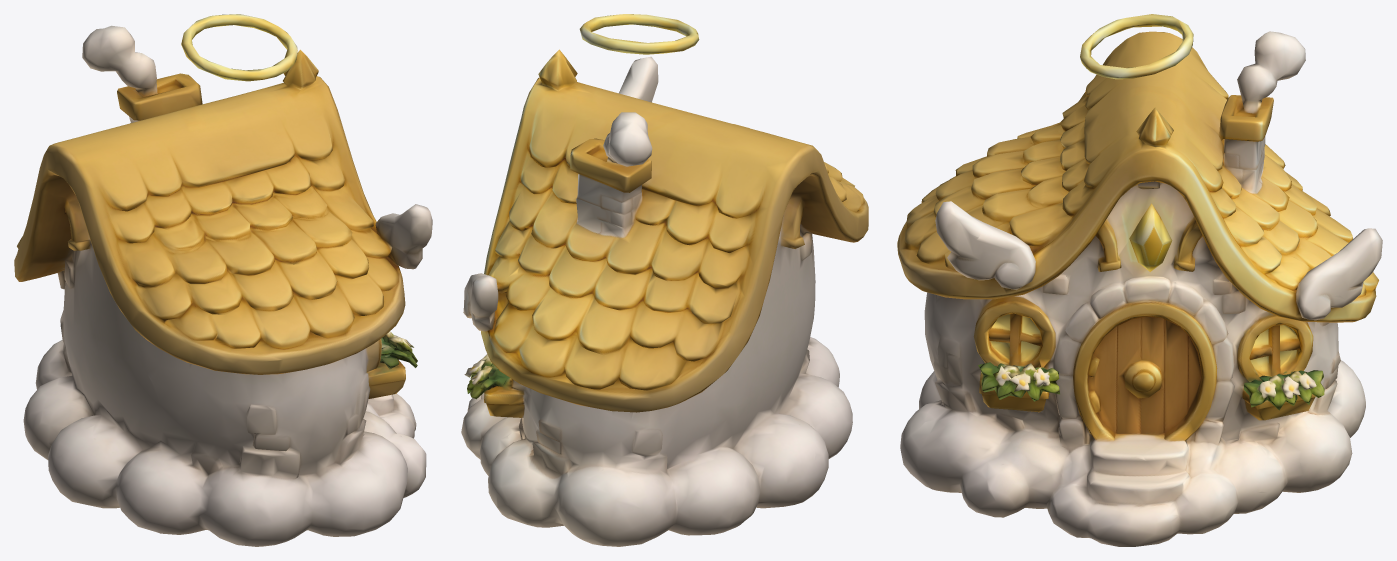
Rendered from Town_Halo_HouseA_raw.glb.
3 renders of one model, left to right at view 1: azimuth 30°, elevation 25°; view 2: azimuth 150°, elevation 25°; view 3: azimuth 270°, elevation 25°, orthographic. The views are drawn at different scales.
Parts seen in each view (by area): view 1: tripo_node_1d08ed83-241a-41ac-be14-08909b30315a; view 2: tripo_node_1d08ed83-241a-41ac-be14-08909b30315a; view 3: tripo_node_1d08ed83-241a-41ac-be14-08909b30315a.
Boxes of the visible parts, x1,y1,x2,y2 form: tripo_node_1d08ed83-241a-41ac-be14-08909b30315a: (14, 14, 432, 546); tripo_node_1d08ed83-241a-41ac-be14-08909b30315a: (461, 14, 868, 546); tripo_node_1d08ed83-241a-41ac-be14-08909b30315a: (897, 14, 1382, 546).
Size of the model in its own units: 0.8313 by 0.9934 by 1.
1 material, 1 textured.
